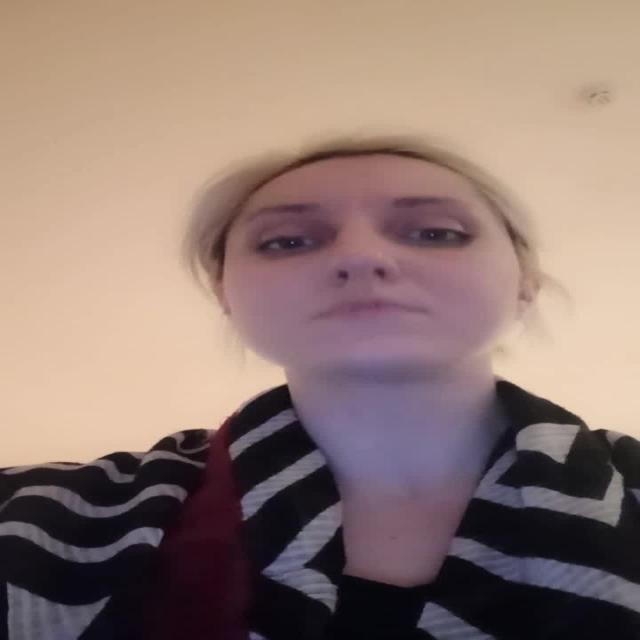eye: (258, 233, 318, 255), (401, 227, 468, 245)
nose: (321, 262, 403, 293)
